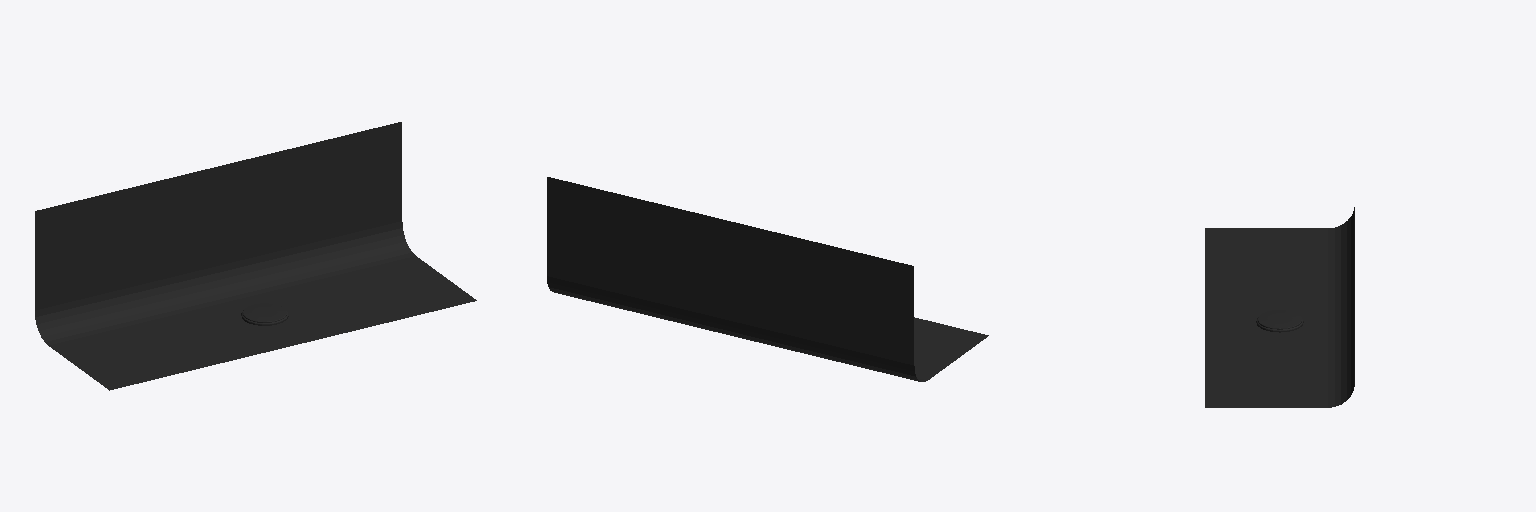
File: RenderPedestal.obj
3 renders of one model, left to right at view 1: azimuth 30°, elevation 25°; view 2: azimuth 150°, elevation 25°; view 3: azimuth 270°, elevation 25°, orthographic.
Parts seen in each view (by area): view 1: Pedestal; view 2: Pedestal; view 3: Pedestal.
Boxes of the visible parts, x1,y1,x2,y2 form: Pedestal: [35, 122, 476, 390]; Pedestal: [547, 177, 988, 381]; Pedestal: [1205, 207, 1354, 407].
Size of the model in its own units: 69.41 by 22.43 by 24.52.